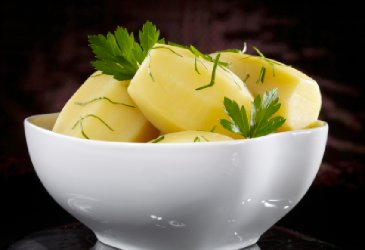boiled potatoes: (130, 40, 255, 136)
